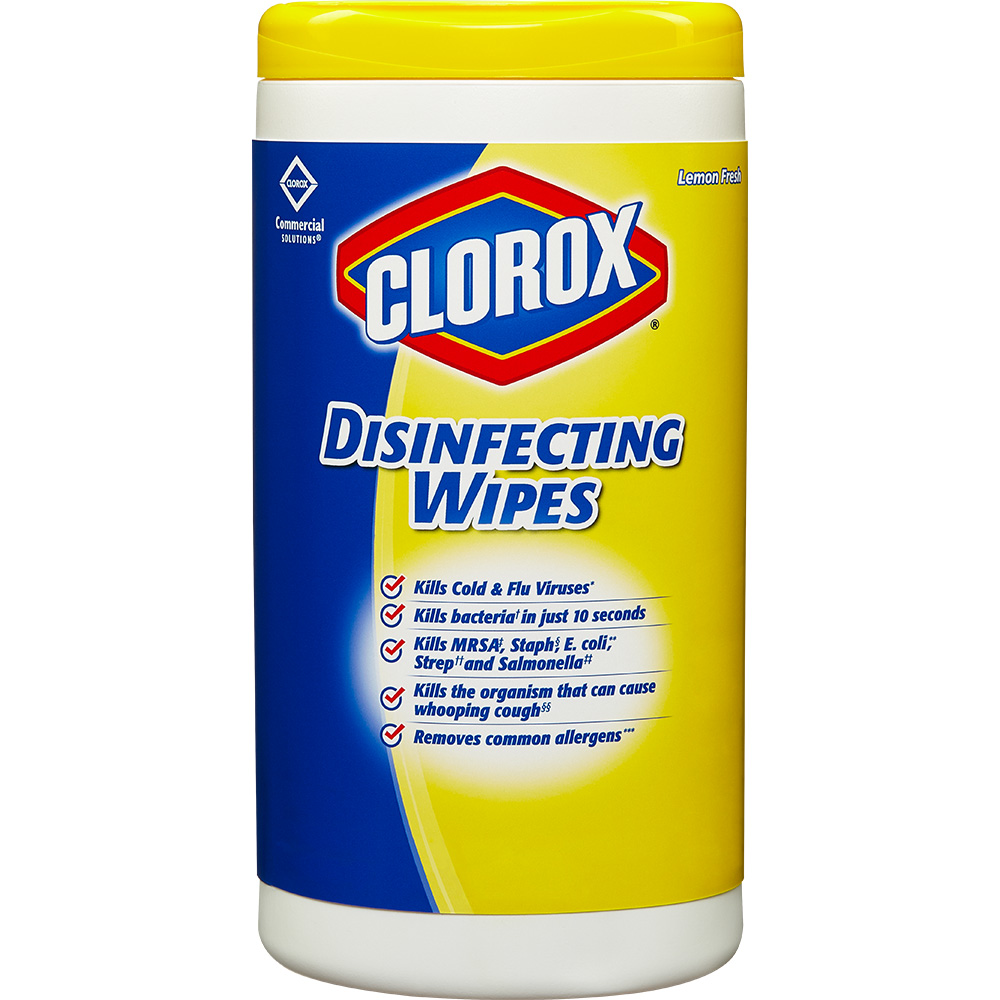Wipes: (241, 1, 756, 999)
